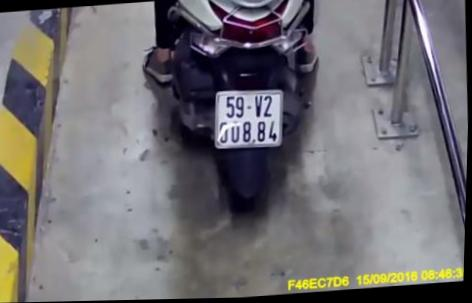LP: (212, 86, 287, 153)
